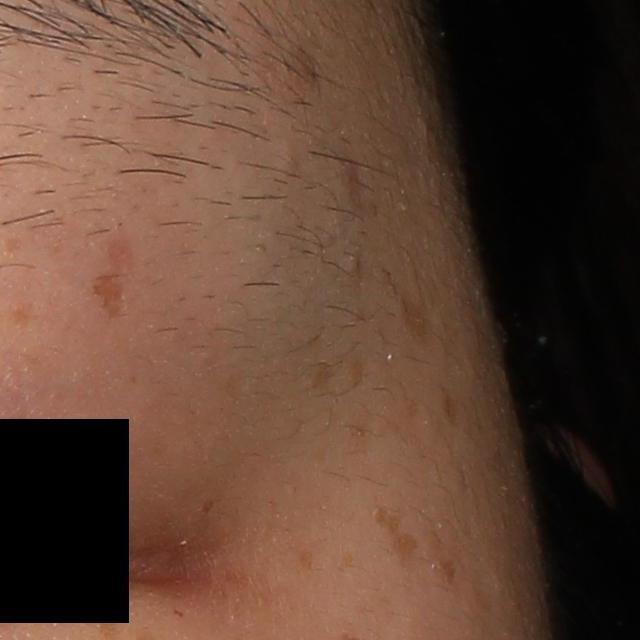melasma: (378, 265, 435, 349), (370, 506, 419, 567), (93, 274, 127, 324), (308, 359, 335, 393), (440, 387, 459, 429), (352, 360, 369, 390), (297, 547, 316, 570), (196, 496, 214, 517)
